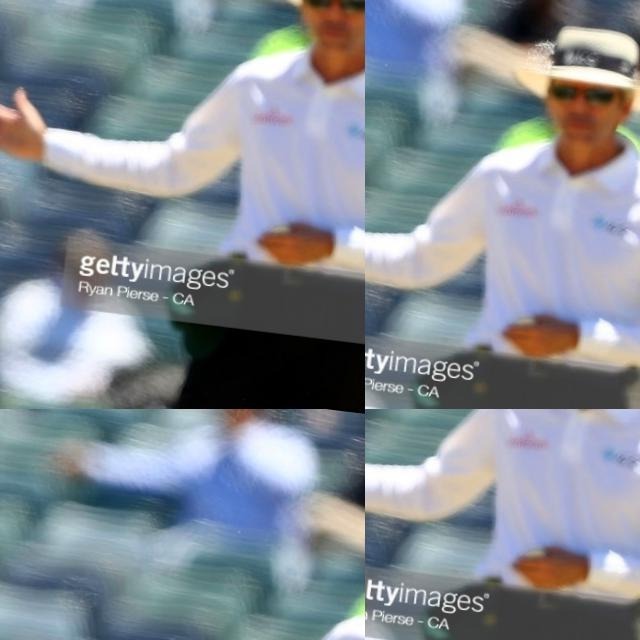No_Action: (262, 0, 365, 409)
No_Ball: (12, 437, 365, 640), (365, 0, 517, 409), (365, 409, 562, 640)
